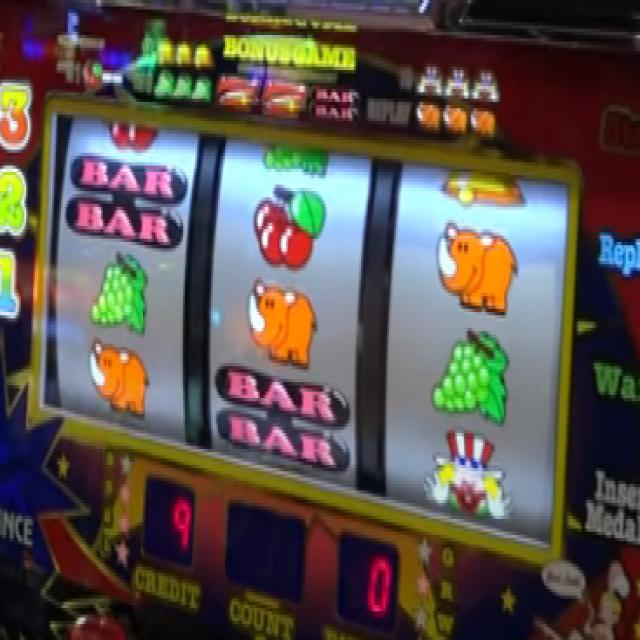bar: (215, 363, 353, 473), (66, 156, 186, 248), (312, 85, 360, 121)
bell: (441, 165, 528, 206), (191, 36, 210, 68), (154, 36, 173, 62), (174, 40, 192, 66)
cherry: (254, 183, 322, 267), (106, 119, 158, 151)
clown: (427, 425, 512, 521), (416, 61, 443, 96), (444, 68, 471, 98), (472, 70, 499, 100)
display: (43, 96, 583, 554)
elephant: (438, 222, 520, 317), (250, 279, 316, 369), (89, 338, 149, 422), (442, 102, 468, 136), (470, 106, 494, 141), (416, 99, 441, 129)
grape: (434, 325, 510, 427), (90, 250, 151, 335), (262, 140, 330, 176), (154, 70, 175, 98), (173, 72, 192, 99), (193, 77, 212, 100)
z: (266, 80, 308, 120), (216, 77, 260, 110)
